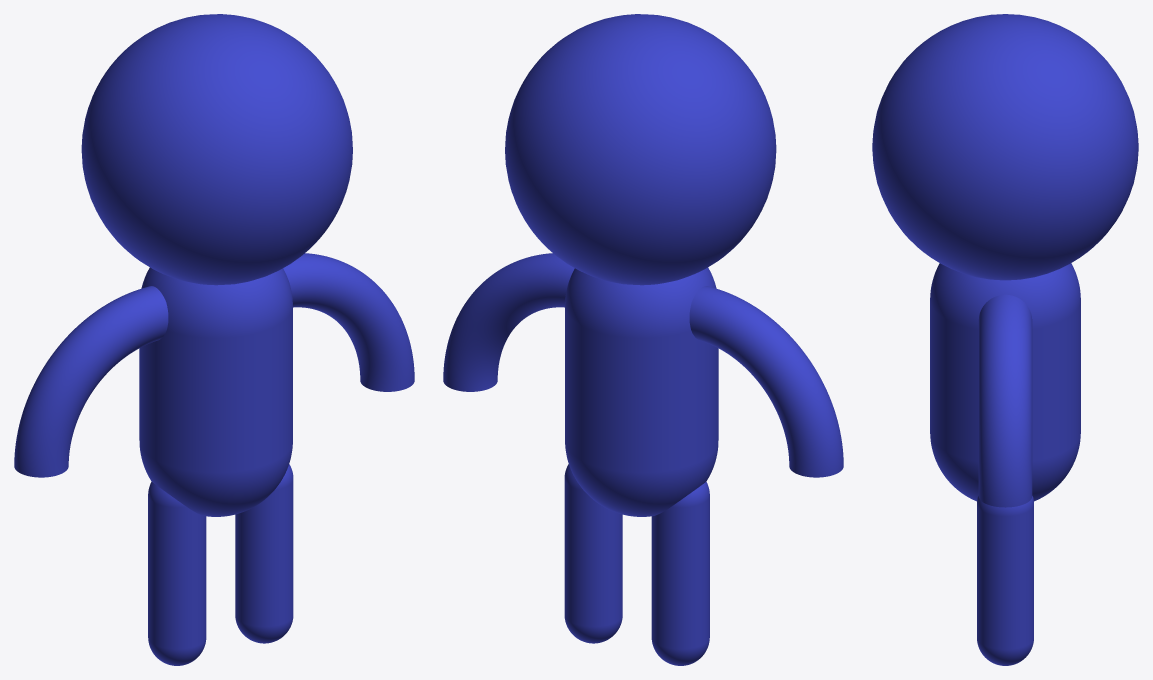
File: RandomMob.fbx
The picture shows the model from 3 angles, left to right: view 1: azimuth 30°, elevation 25°; view 2: azimuth 150°, elevation 25°; view 3: azimuth 270°, elevation 25°; orthographic projection.
Parts seen in each view (by area): view 1: node_id74 (×6); view 2: node_id74 (×6); view 3: node_id74 (×4).
Boxes of the visible parts, <box> form: node_id74 (×6): <box>14,14,414,665</box>; node_id74 (×6): <box>443,14,843,665</box>; node_id74 (×4): <box>872,14,1138,665</box>.
Bounding box in the file's own units: 0.3345 × 0.5095 × 0.2.
